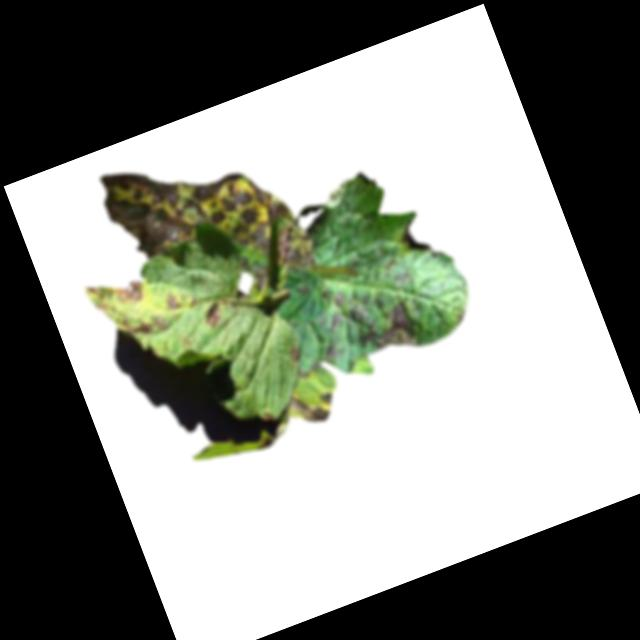Early_blight: (93, 116, 315, 326), (347, 292, 423, 367), (284, 382, 340, 431), (121, 309, 171, 348), (396, 216, 432, 260), (116, 278, 149, 308), (200, 302, 227, 330), (285, 343, 305, 366), (164, 291, 181, 311), (328, 312, 345, 332), (331, 291, 347, 308)
